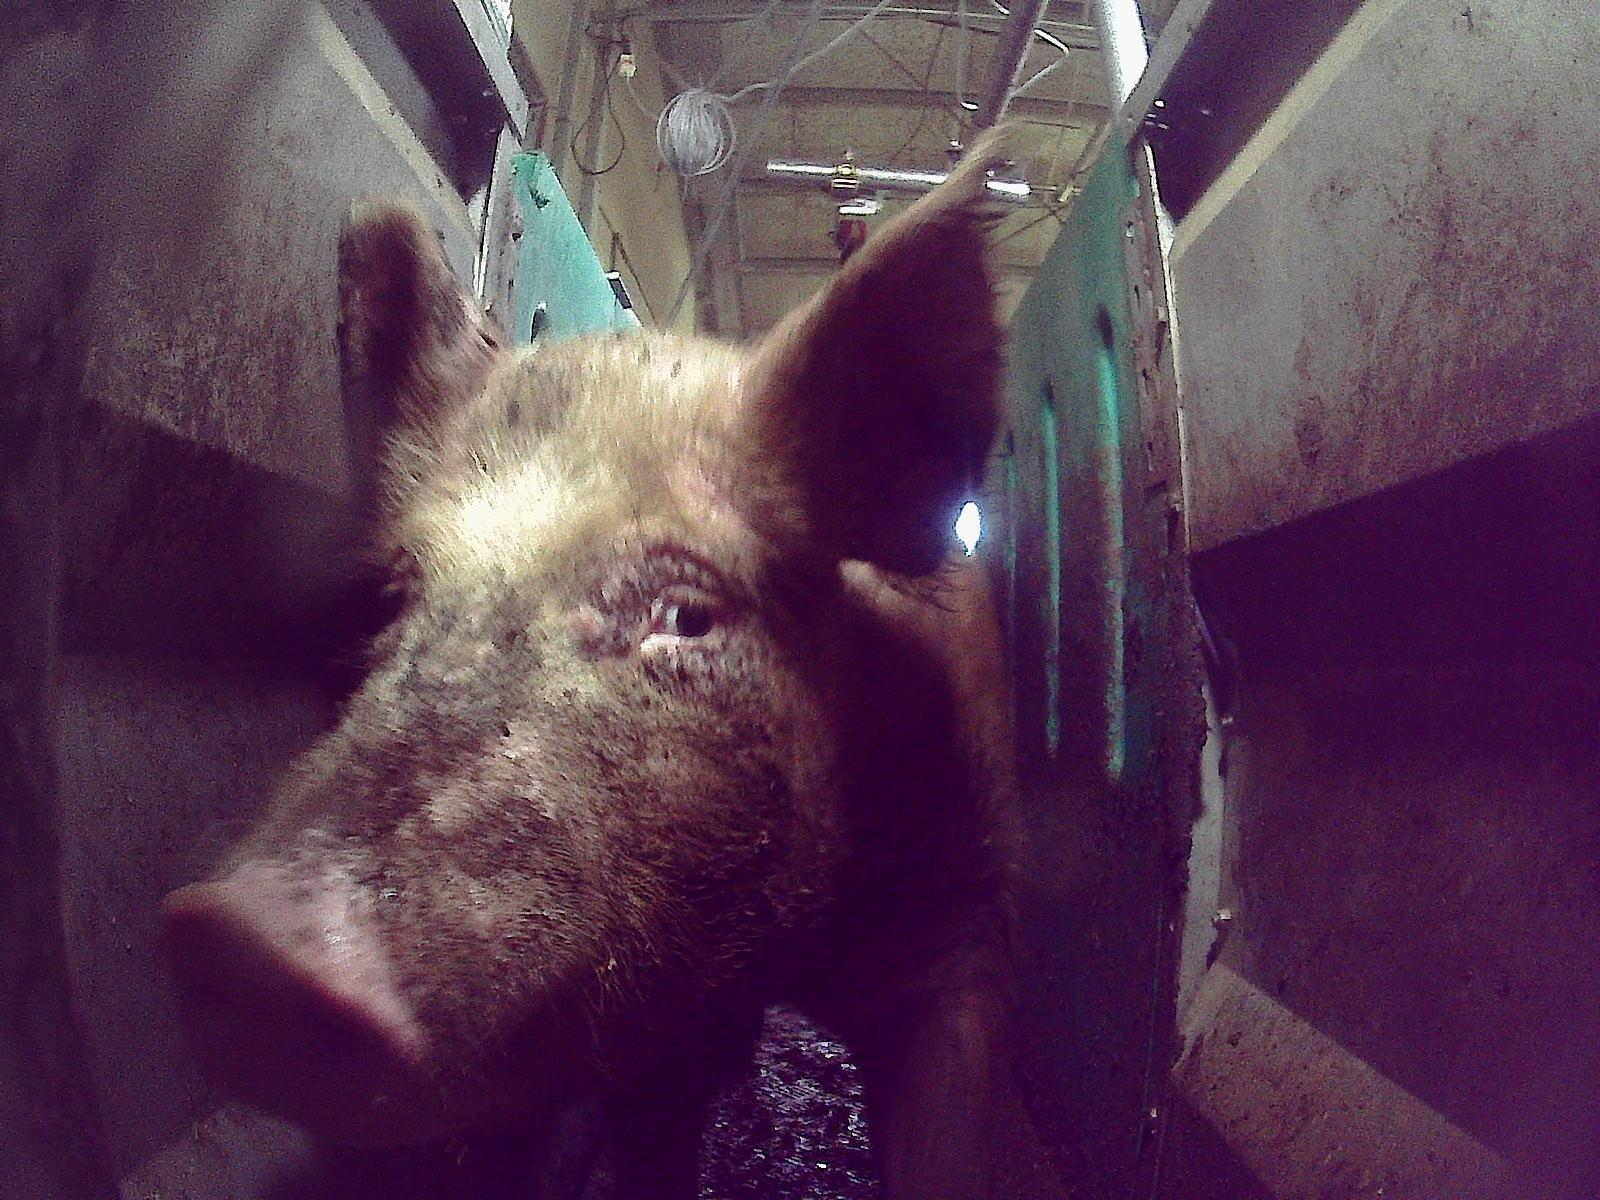Face: (163, 381, 799, 1153)
